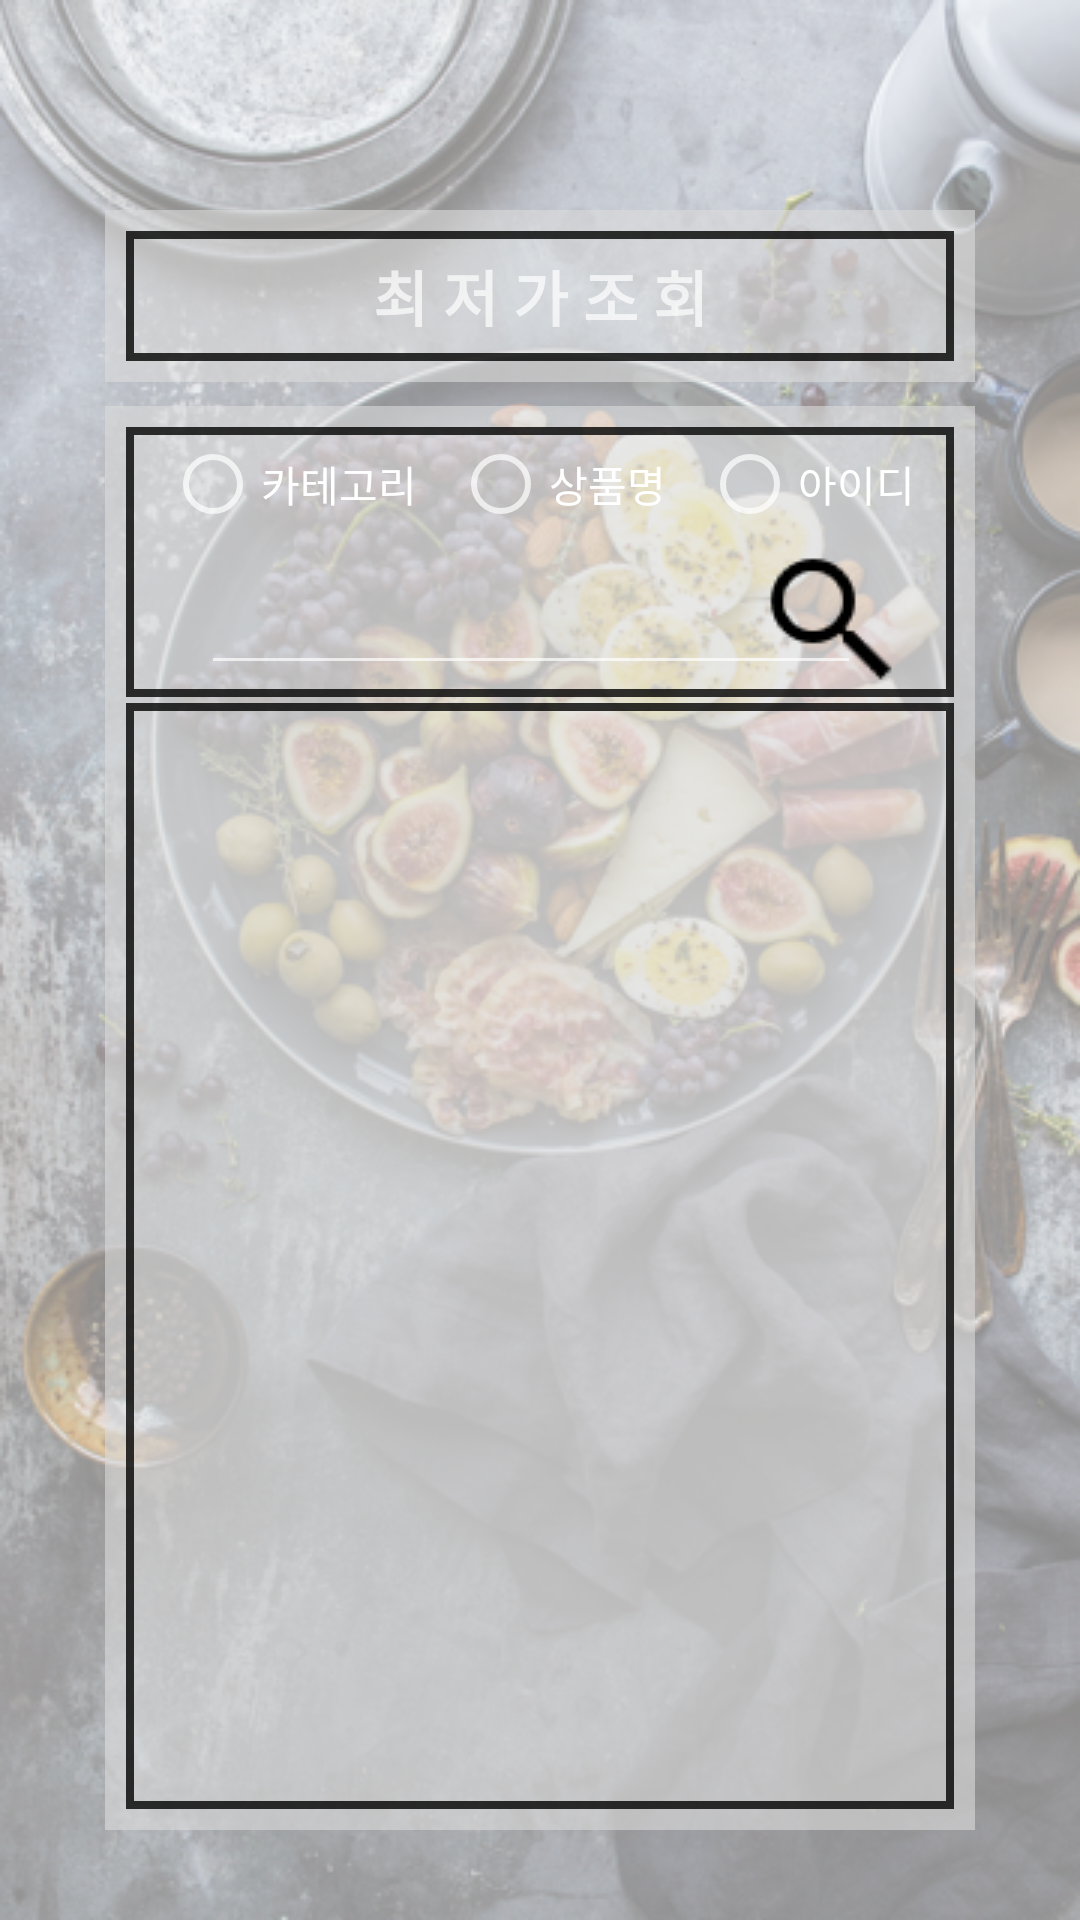

Point at icon controls on the screen. Image size 1080x1920, points as point (x, y).
price search activity: point (831, 619)
